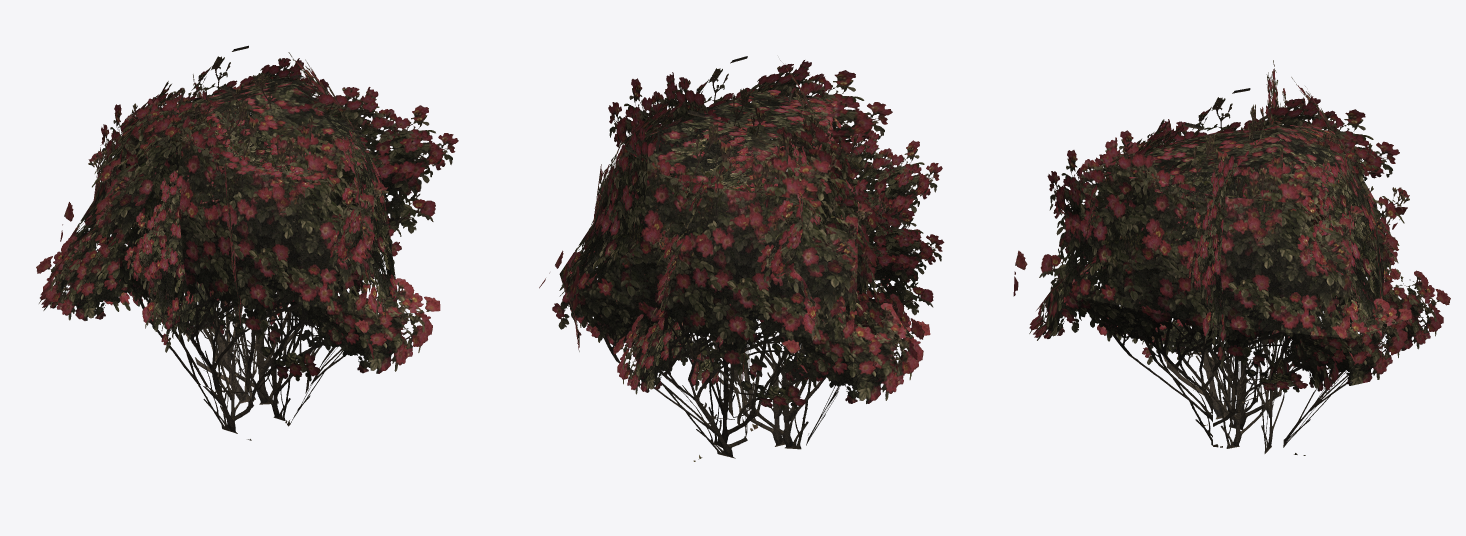
Rendered from fern_2.obj.
3 views of the same model, side by side, from view 1: azimuth 30°, elevation 25°; view 2: azimuth 150°, elevation 25°; view 3: azimuth 270°, elevation 25° (orthographic). The views are drawn at different scales.
Visible parts, largest first — view 1: fern_2; view 2: fern_2; view 3: fern_2.
Boxes of the visible parts, x1=… form: fern_2: x1=36, y1=45, x2=458, y2=440; fern_2: x1=539, y1=56, x2=944, y2=461; fern_2: x1=1013, y1=60, x2=1450, y2=455.
Bounding box in the file's own units: 1.38 × 1.22 × 1.44.
